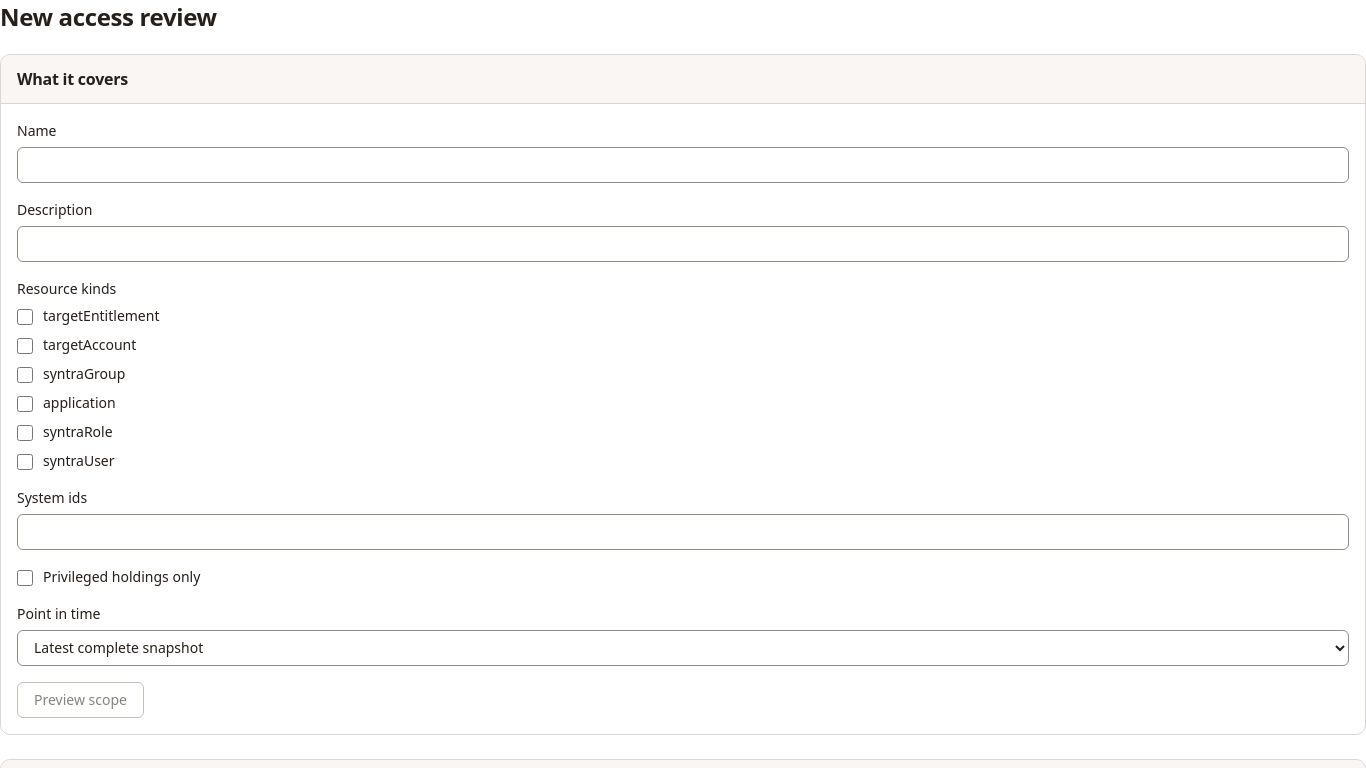
Test case: creating a campaign › shows the scope preview before anything is created
This screenshot has width=1366, height=768.
Check: the field labelled "Name" is shown, box [17,147,1349,183]
Click the checkbox labelled "targetEntitlement" at x=25, y=317, box [17,309,33,325]
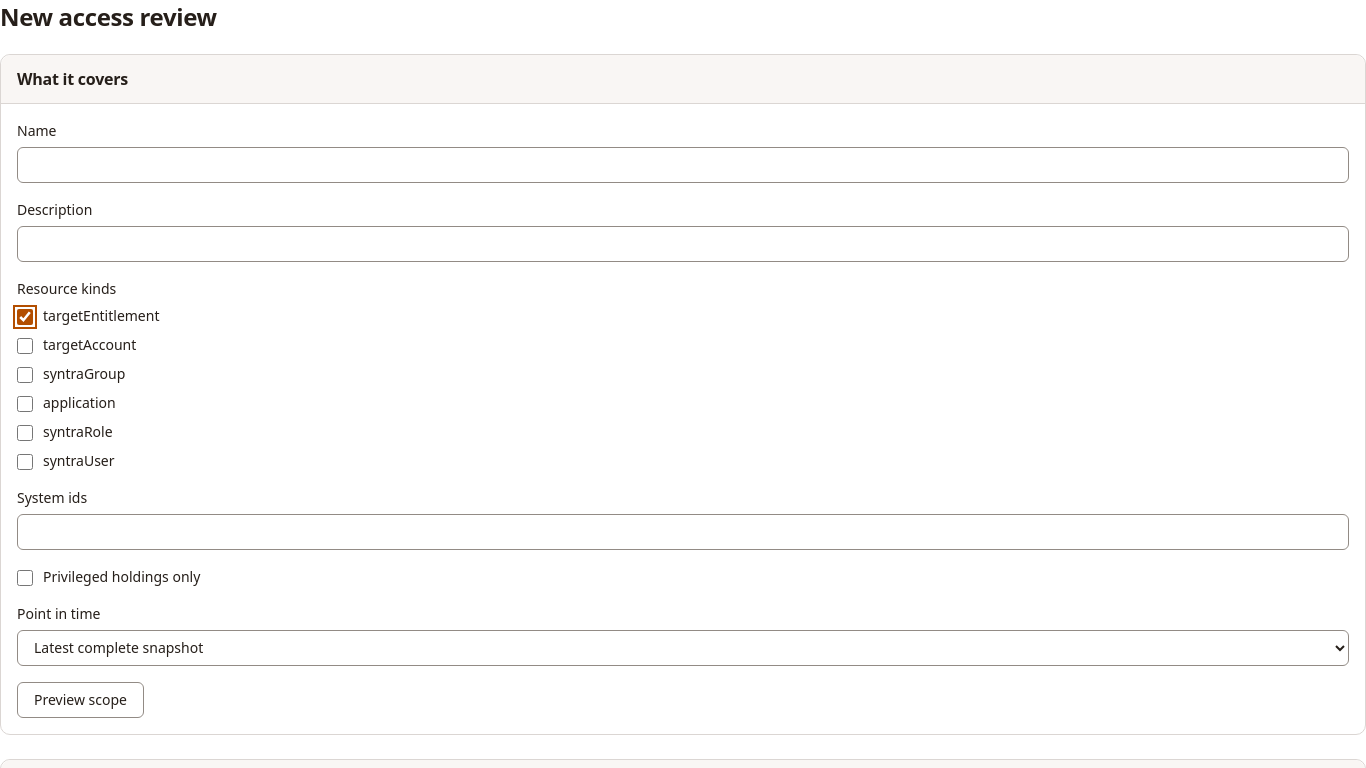
Click the button "Preview scope" at x=80, y=700, box [17,682,144,718]
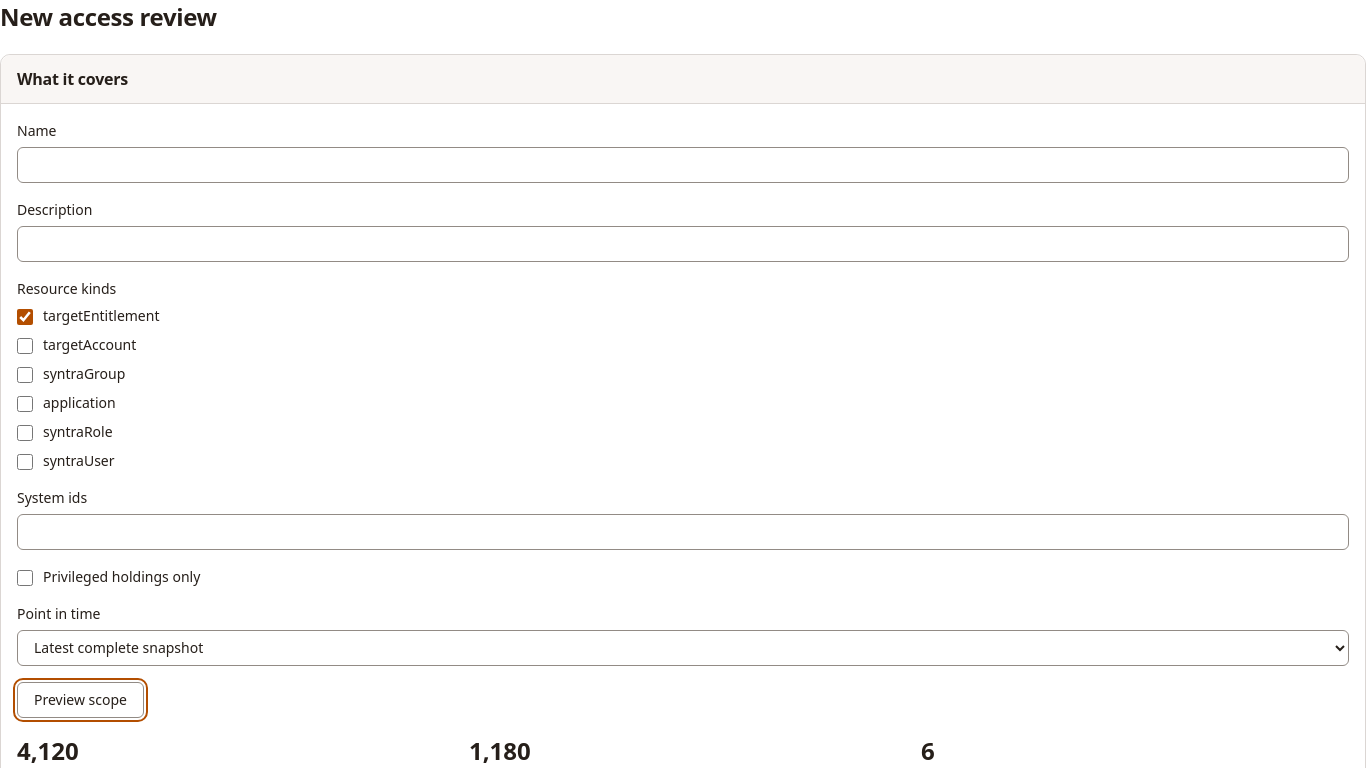
Check: the text "4,120" is shown, box [17,734,79,767]
Check: the text "1,180" is shown, box [469,734,531,767]
